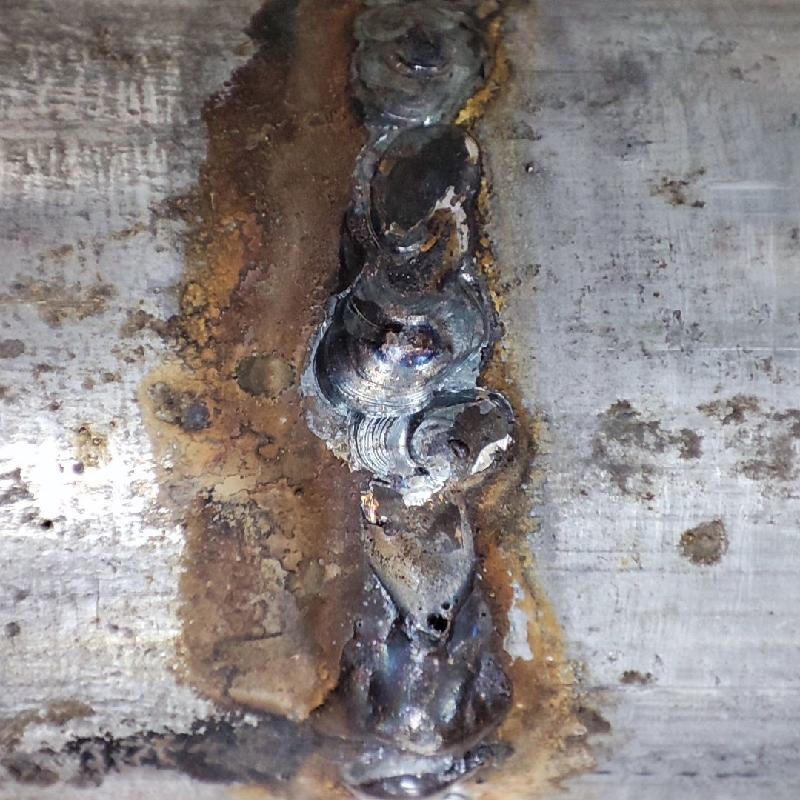Not_fully_soldered: (339, 411, 501, 640)
Surface_pores: (405, 590, 468, 641)
wrong_size: (304, 3, 502, 404)
